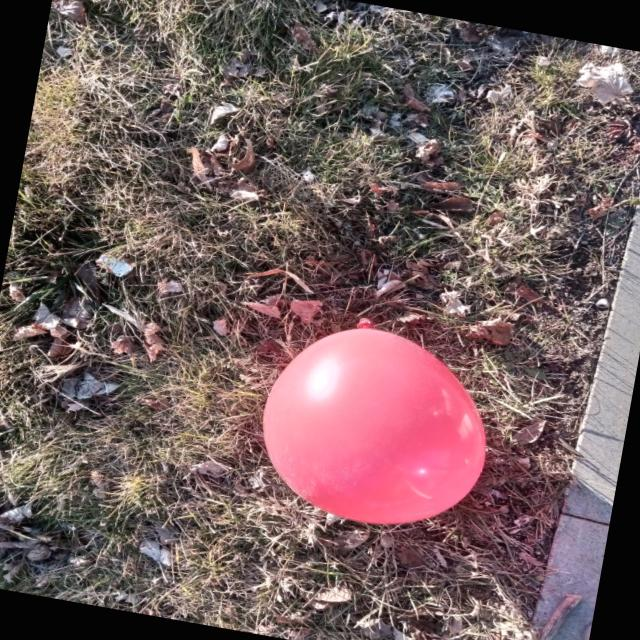balloon: (263, 326, 486, 524)
